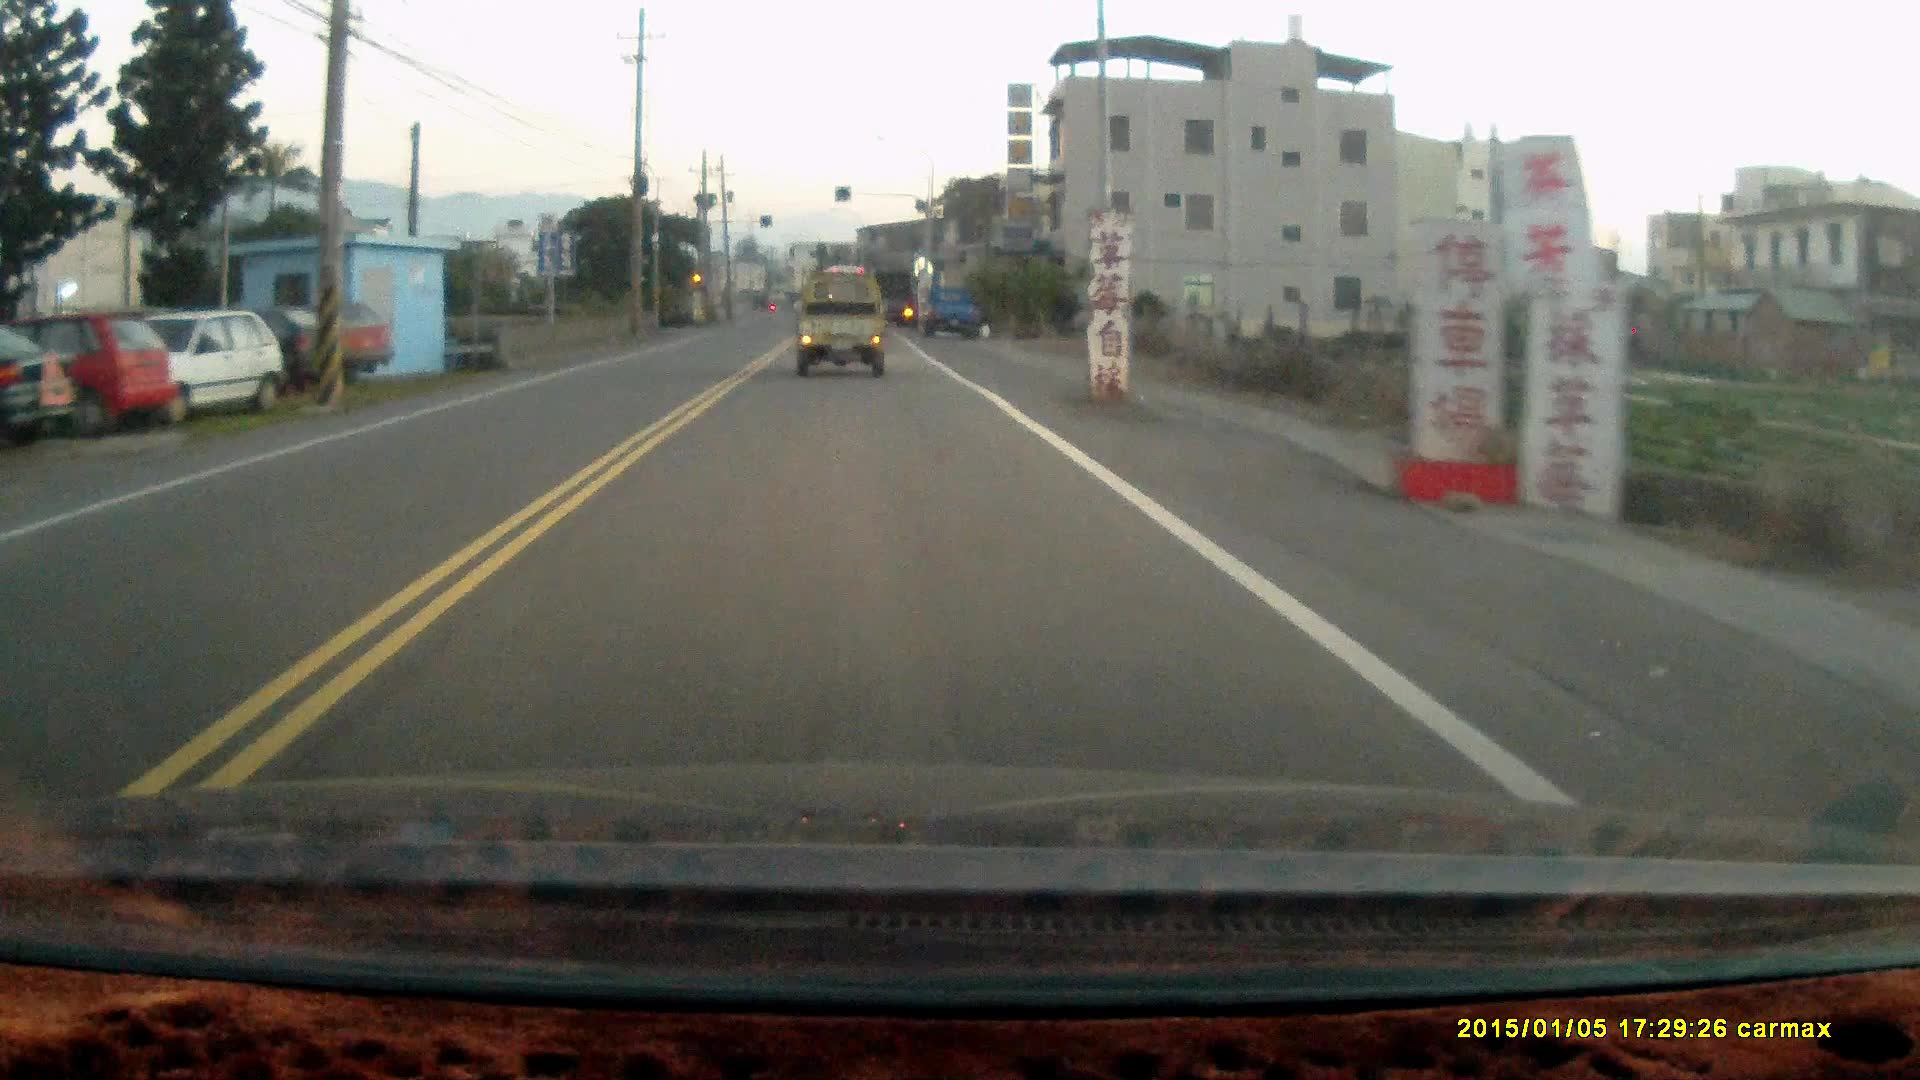vehicle: (1, 316, 185, 431), (95, 310, 287, 411), (237, 301, 401, 386), (795, 268, 891, 380), (915, 282, 985, 340)
